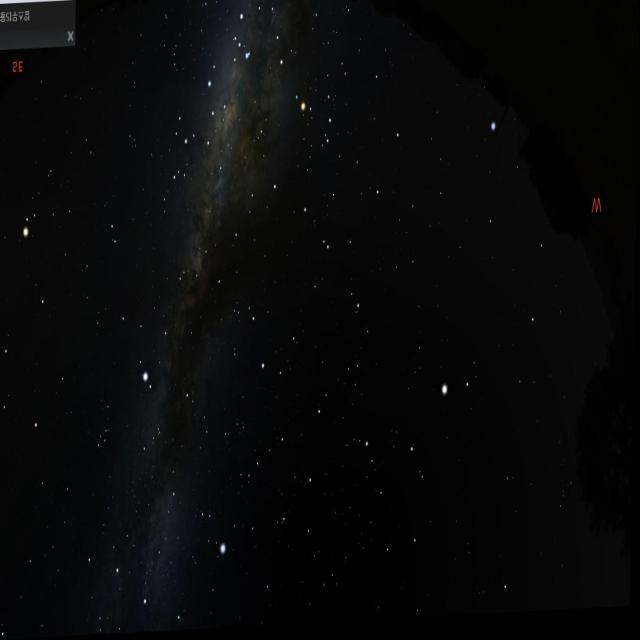aquila: (115, 252, 207, 426)
bootes: (373, 342, 486, 564)
cygnus: (108, 467, 200, 636)
lyra: (200, 502, 234, 560)
sagittarius: (159, 73, 230, 207)
scorpius: (230, 0, 346, 180)
